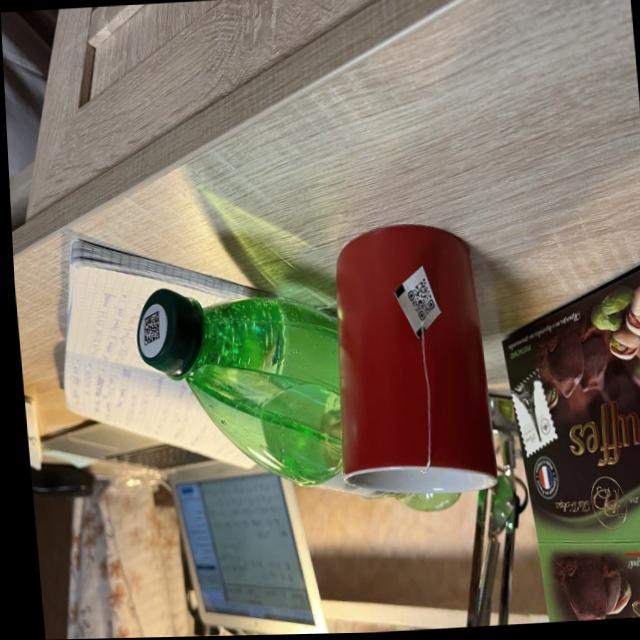datamatrix: (137, 311, 158, 348)
qrcode: (401, 279, 432, 324)
